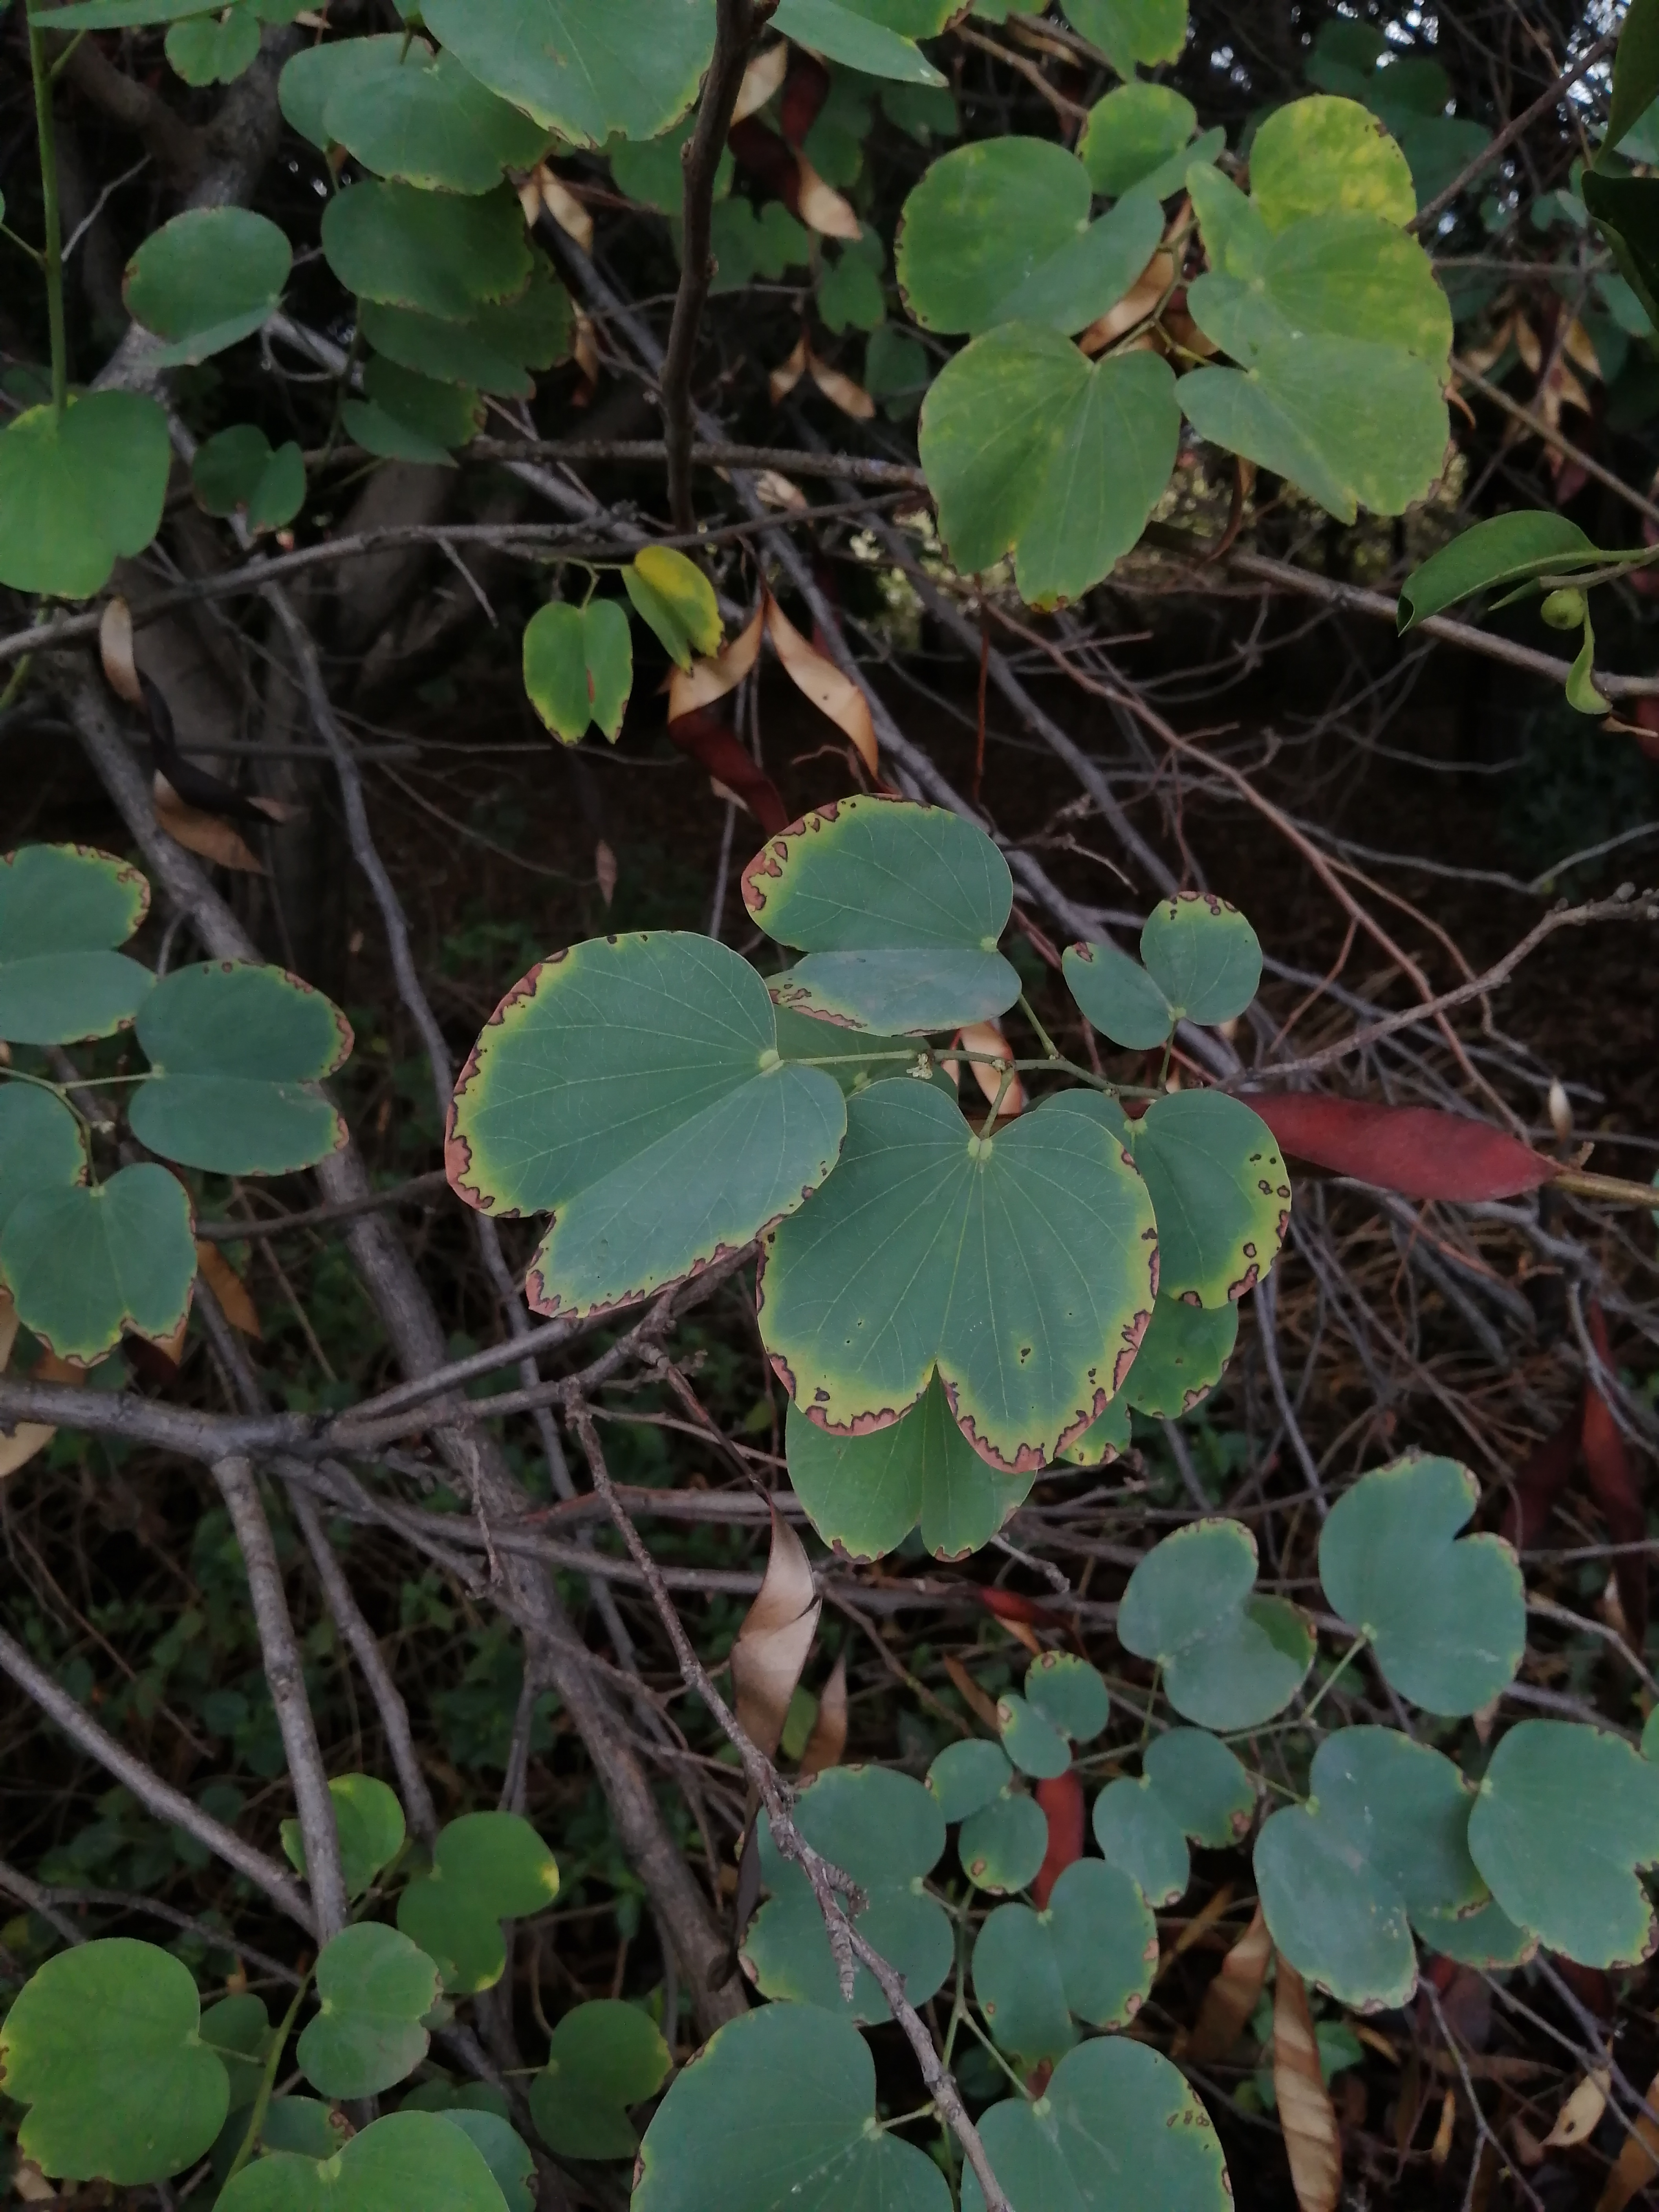nothealthy: (430, 904, 857, 1339), (749, 1082, 1171, 1467), (727, 796, 1032, 1052), (118, 949, 369, 1174), (1054, 883, 1270, 1054), (0, 836, 167, 1047)
